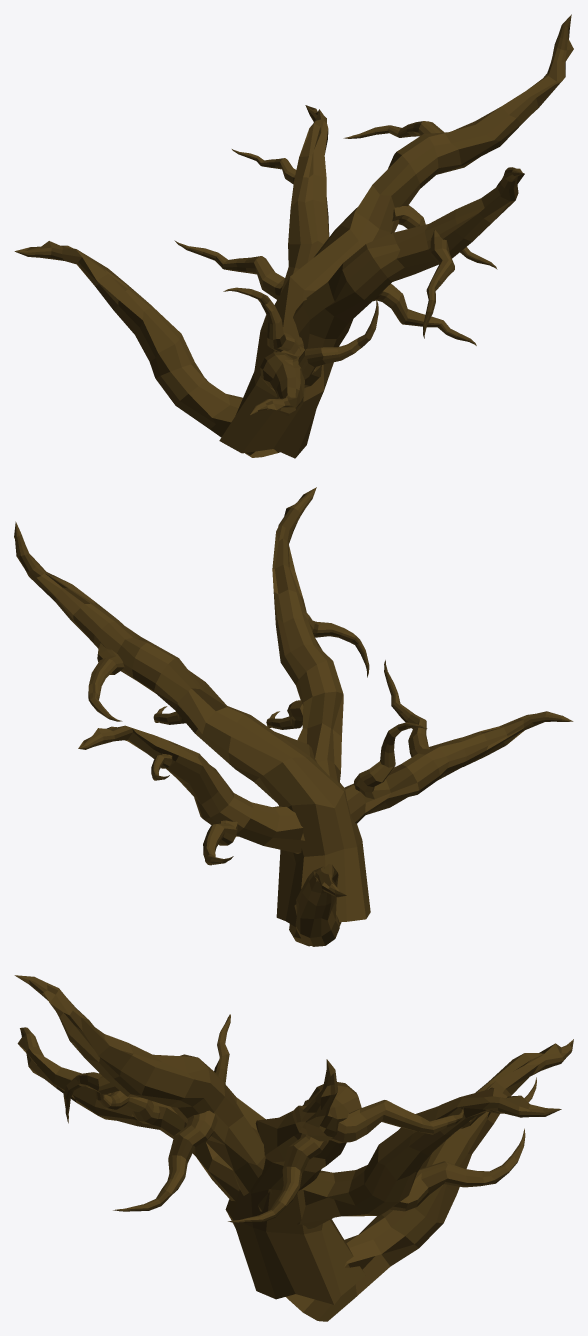
Rendered from bramble.fbx.
The picture shows the model from 3 angles, top to bottom: view 1: azimuth 30°, elevation 25°; view 2: azimuth 150°, elevation 25°; view 3: azimuth 270°, elevation 25°; orthographic projection. The views are drawn at different scales.
Parts seen in each view (by area): view 1: Circle.008; view 2: Circle.008; view 3: Circle.008.
Part boxes in pixels (x1,y1,x2,y2): Circle.008: [14, 14, 573, 458]; Circle.008: [14, 487, 573, 946]; Circle.008: [14, 975, 573, 1321].
Size of the model in its own units: 108 by 83.63 by 98.17.
